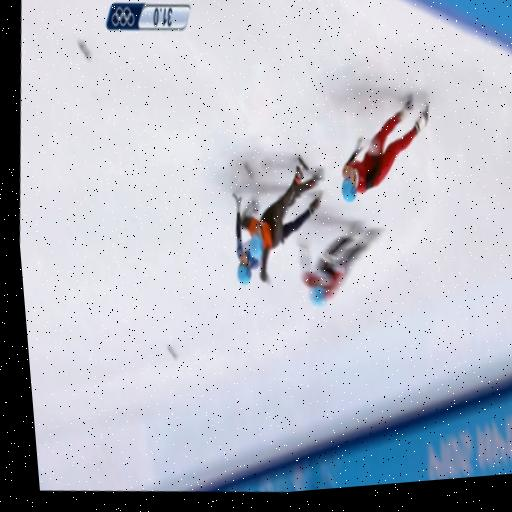Skater: (240, 157, 322, 281), (341, 96, 428, 201), (299, 225, 380, 305), (232, 192, 260, 284)
